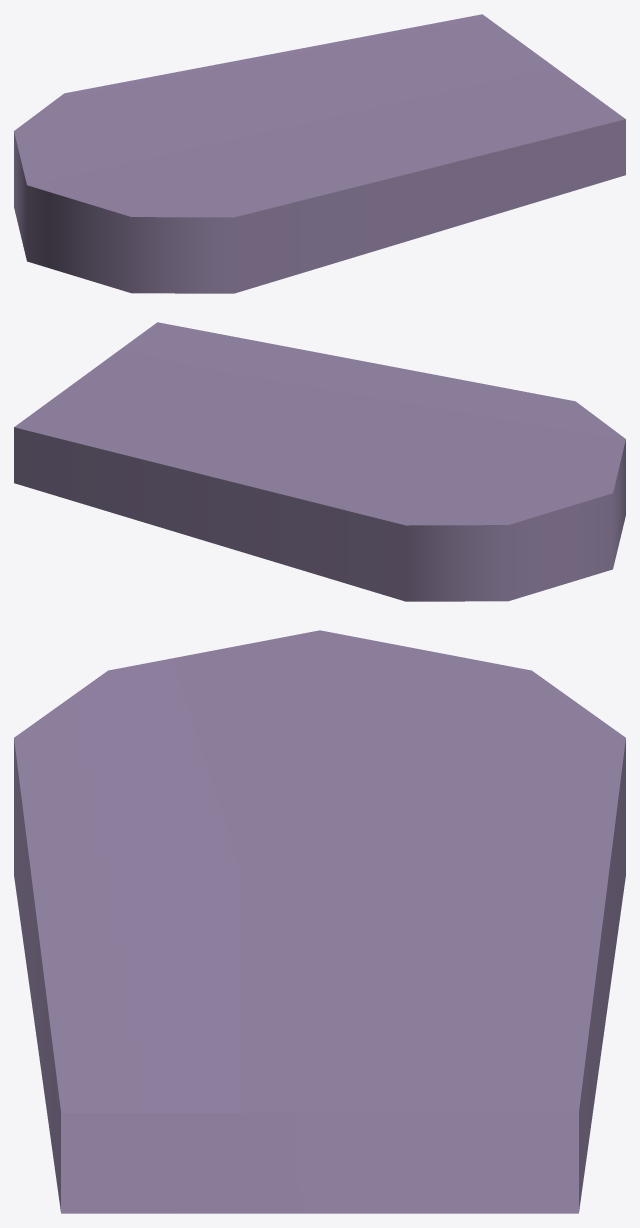
Rendered from Palanquita.fbx.
The picture shows the model from 3 angles, top to bottom: view 1: azimuth 30°, elevation 25°; view 2: azimuth 150°, elevation 25°; view 3: azimuth 270°, elevation 25°; orthographic projection. The views are drawn at different scales.
Parts seen in each view (by area): view 1: Palanquita; view 2: Palanquita; view 3: Palanquita.
Boxes of the visible parts, x1,y1,x2,y2 form: Palanquita: [14, 14, 625, 293]; Palanquita: [14, 322, 625, 601]; Palanquita: [14, 630, 625, 1213].
Size of the model in its own units: 0.0295 by 0.00408 by 0.0164.
